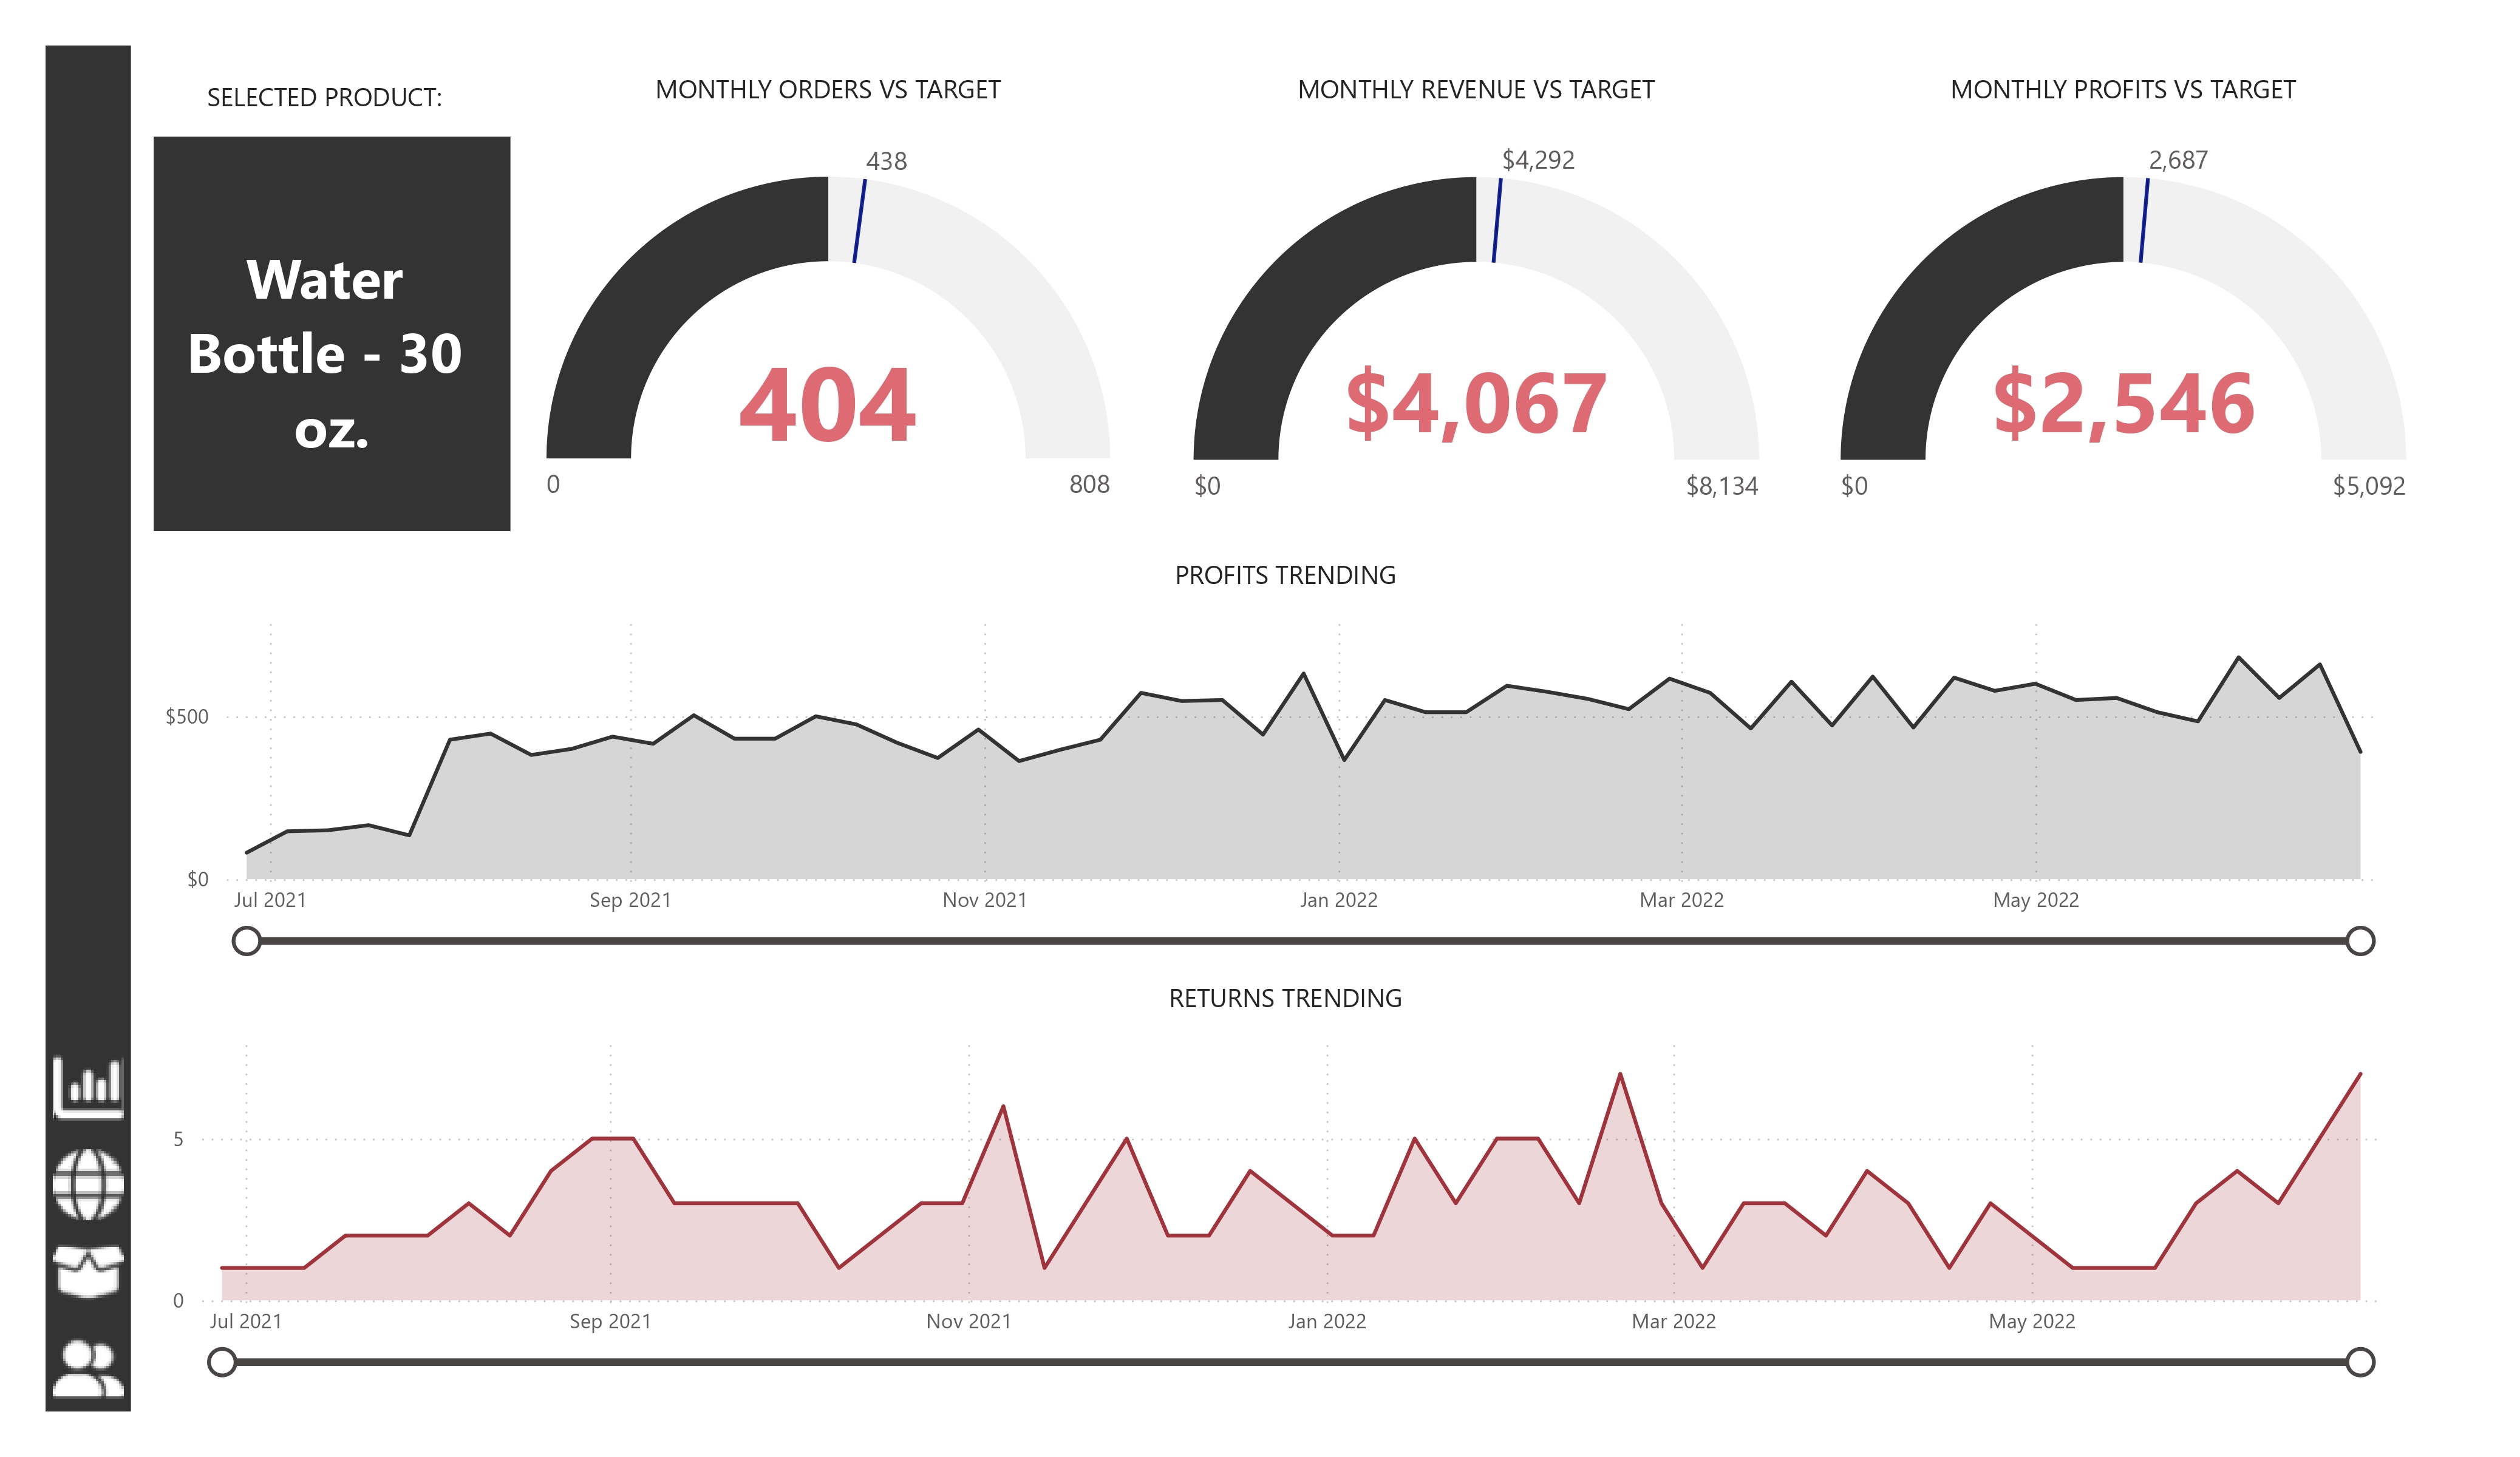

Layout of this report page (visuals, bound fields, positions):
{"tool":"powerbi","page":{"name":"Product Detatil","canvas":[1280,720],"ordinal":2},"visuals":[{"type":"shape","title":"Left Nav Background","box":[0,0,45.2,720.2],"z":0},{"type":"gauge","title":"MONTHLY ORDERS VS TARGET","fields":{"Y":["Measure Table.Total Orders"],"TargetValue":["Measure Table.Order Target"]},"box":[258.8,13.8,307.5,242.5],"z":1000},{"type":"gauge","title":"MONTHLY REVENUE VS TARGET","fields":{"Y":["Measure Table.Total Revenue"],"TargetValue":["Measure Table.Revenue Target"]},"box":[600,13.8,307.5,242.5],"z":2000},{"type":"gauge","title":"MONTHLY PROFITS VS TARGET","fields":{"Y":["Measure Table.Total profit"],"TargetValue":["Measure Table.Profit Target"]},"box":[941.2,13.8,307.5,242.5],"z":3000},{"type":"areaChart","title":"PROFITS TRENDING","fields":{"Y":["Measure Table.Total profit"],"Category":["Calendar Lookup.Date Hierarchy.Year","Calendar Lookup.Date Hierarchy.Start of Month","Calendar Lookup.Date Hierarchy.Start of Week","Calendar Lookup.Date Hierarchy.Date"]},"box":[57.5,270,1191.2,212.5],"z":4000},{"type":"areaChart","title":" RETURNS TRENDING","fields":{"Y":["Measure Table.Total Returns"],"Category":["Calendar Lookup.Date Hierarchy.Year","Calendar Lookup.Date Hierarchy.Start of Month","Calendar Lookup.Date Hierarchy.Start of Week","Calendar Lookup.Date Hierarchy.Date"]},"box":[57.5,492.5,1191.2,212.5],"z":5000},{"type":"card","fields":{"Values":["Min(Product Lookup.ProductName)"]},"box":[57.5,47.7,187.1,207.9],"z":6000},{"type":"textbox","box":[57.5,13.5,179.8,34.2],"z":7000},{"type":"group","id":"g1","title":"NAVGVIGATION BUTTON","box":[0,526.8,45.2,193.2],"z":8000},{"type":"actionButton","box":[0.2,526.8,45,45],"z":14000,"group":"g1"},{"type":"actionButton","box":[0.2,623.8,45,45],"z":15000,"group":"g1"},{"type":"actionButton","box":[0,675,45.2,45],"z":16000,"group":"g1"},{"type":"actionButton","box":[0.2,577.8,45,45],"z":17000,"group":"g1"}]}

Visuals, with their boxes in screenshot pixels (x1, y1, x2, y2):
"Left Nav Background" shape: l=46, t=46, r=131, b=1411
"MONTHLY ORDERS VS TARGET" gauge: l=537, t=72, r=1120, b=532
"MONTHLY REVENUE VS TARGET" gauge: l=1184, t=72, r=1768, b=532
"MONTHLY PROFITS VS TARGET" gauge: l=1831, t=72, r=2415, b=532
"PROFITS TRENDING" areaChart: l=155, t=558, r=2415, b=961
" RETURNS TRENDING" areaChart: l=155, t=980, r=2415, b=1383
card - Min(Product Lookup.ProductName): l=155, t=136, r=509, b=531
textbox: l=155, t=71, r=496, b=136
"NAVGVIGATION BUTTON" group: l=46, t=1045, r=131, b=1411
actionButton: l=46, t=1045, r=131, b=1130
actionButton: l=46, t=1229, r=131, b=1314
actionButton: l=46, t=1326, r=131, b=1411
actionButton: l=46, t=1142, r=131, b=1227
